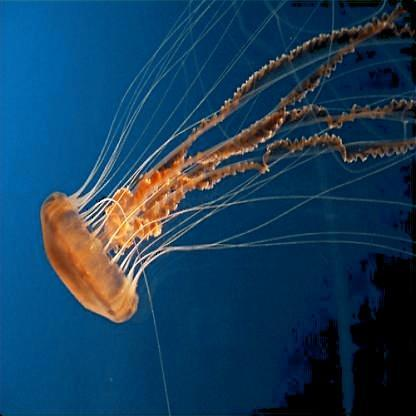Mosaic: (39, 23, 409, 325)
